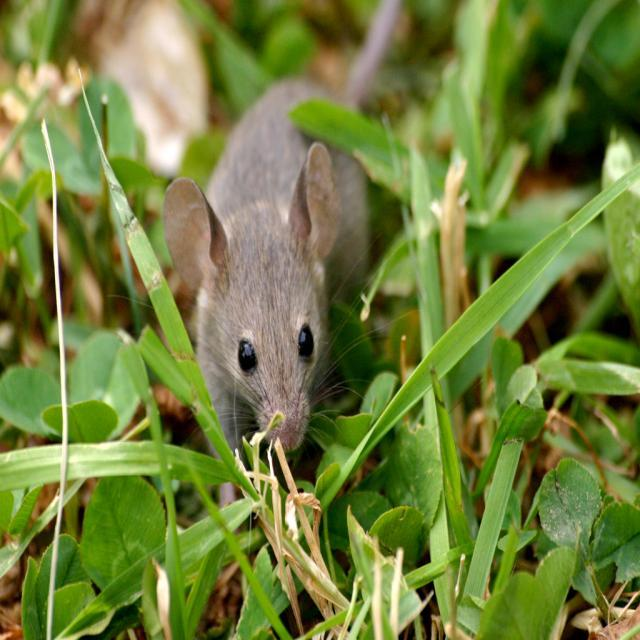rat: (161, 0, 407, 464)
